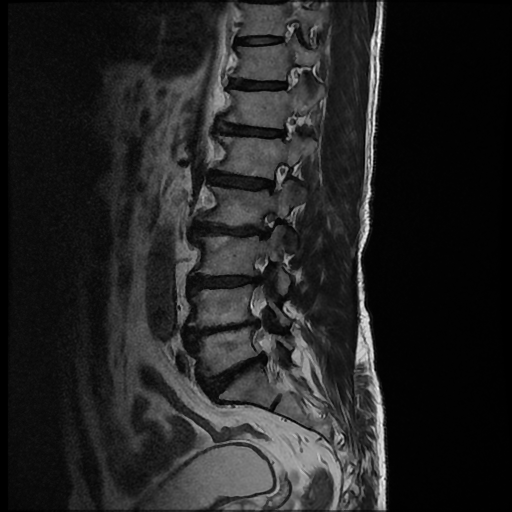RFS0: (249, 156, 300, 207)
RFS3: (243, 208, 291, 247)
